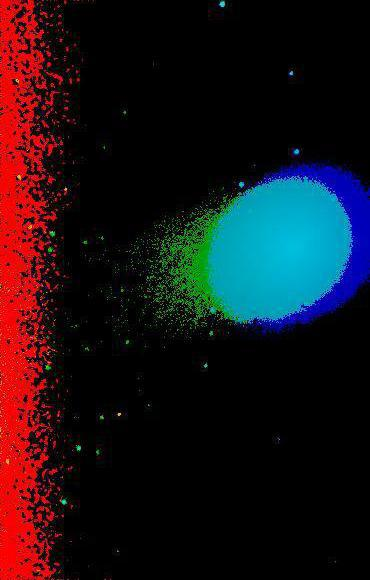star: (106, 400, 136, 430)
